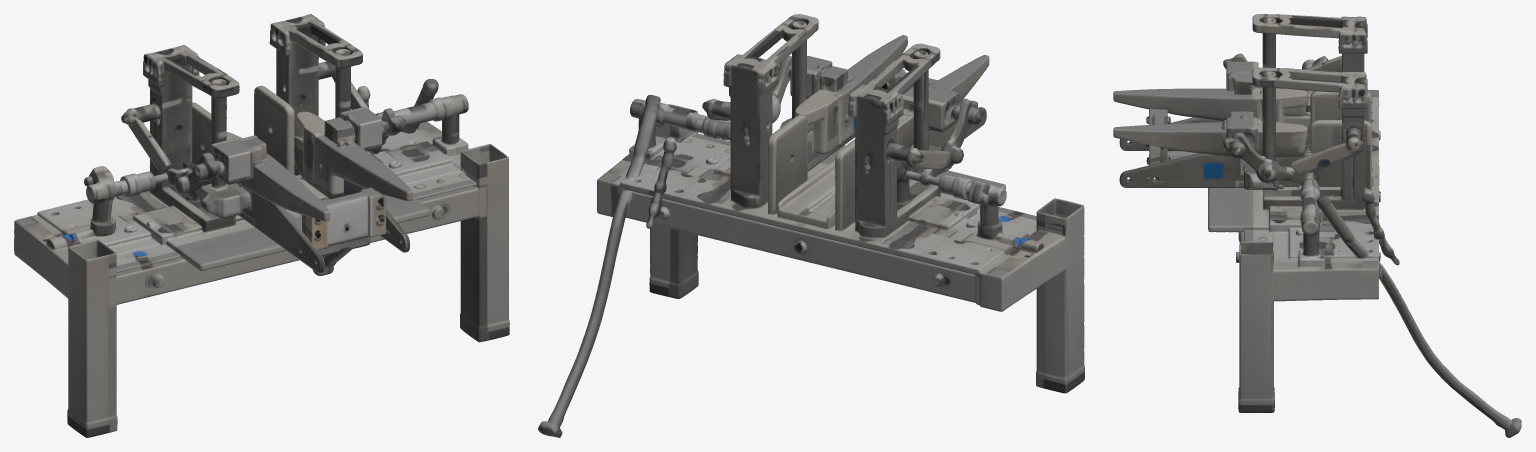
File: industrial machine 3d model (1).glb
3 renders of one model, left to right at view 1: azimuth 30°, elevation 25°; view 2: azimuth 150°, elevation 25°; view 3: azimuth 270°, elevation 25°, orthographic. The views are drawn at different scales.
Visible parts, largest first — view 1: tripo_node_631d9f80-dc32-4018-93c6-f1f9103bc806; view 2: tripo_node_631d9f80-dc32-4018-93c6-f1f9103bc806; view 3: tripo_node_631d9f80-dc32-4018-93c6-f1f9103bc806.
Boxes of the visible parts, box(x1,y1,x2,y2) form: tripo_node_631d9f80-dc32-4018-93c6-f1f9103bc806: box(14, 14, 509, 437); tripo_node_631d9f80-dc32-4018-93c6-f1f9103bc806: box(538, 14, 1084, 437); tripo_node_631d9f80-dc32-4018-93c6-f1f9103bc806: box(1113, 14, 1521, 437).
Size of the model in its own units: 1 by 0.7892 by 0.9345.
Materials: 1 (1 with a texture image).
